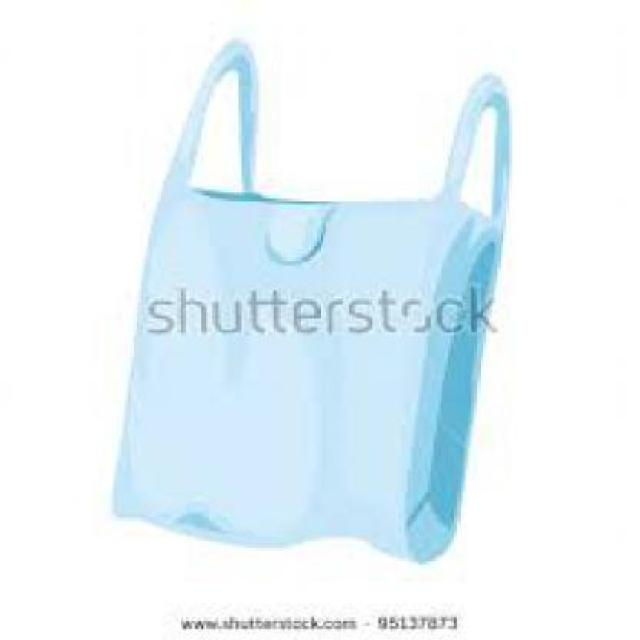PLASTIC: (108, 40, 509, 562)
